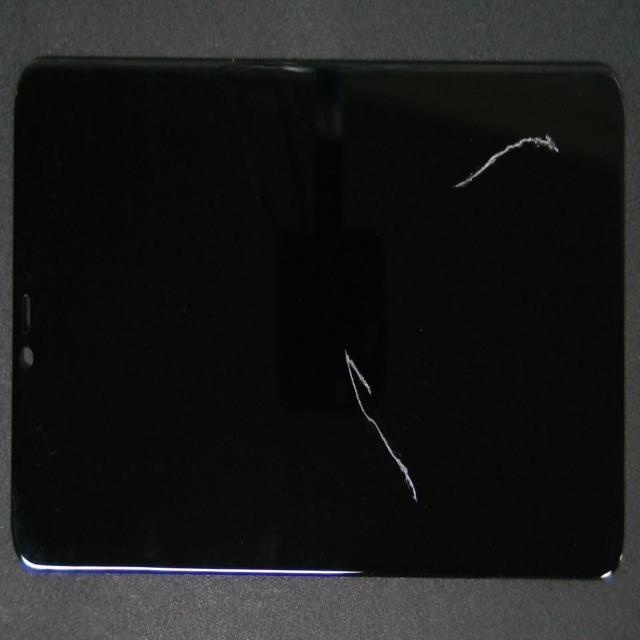scratch: (262, 332, 609, 640), (281, 112, 640, 252)
